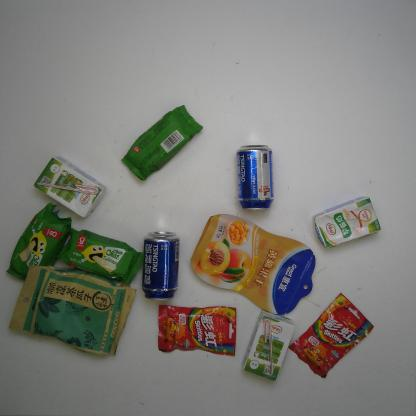Alcohol: (233, 140, 277, 214), (140, 228, 182, 303)
Candy: (287, 290, 376, 380), (155, 303, 240, 359)
Dessert: (118, 101, 205, 184), (5, 197, 74, 285), (53, 226, 148, 288)
Dried Food: (6, 261, 140, 361)
Dried Fruit: (186, 210, 319, 317)
Milk: (31, 152, 109, 220), (241, 307, 298, 383), (309, 194, 383, 250)
